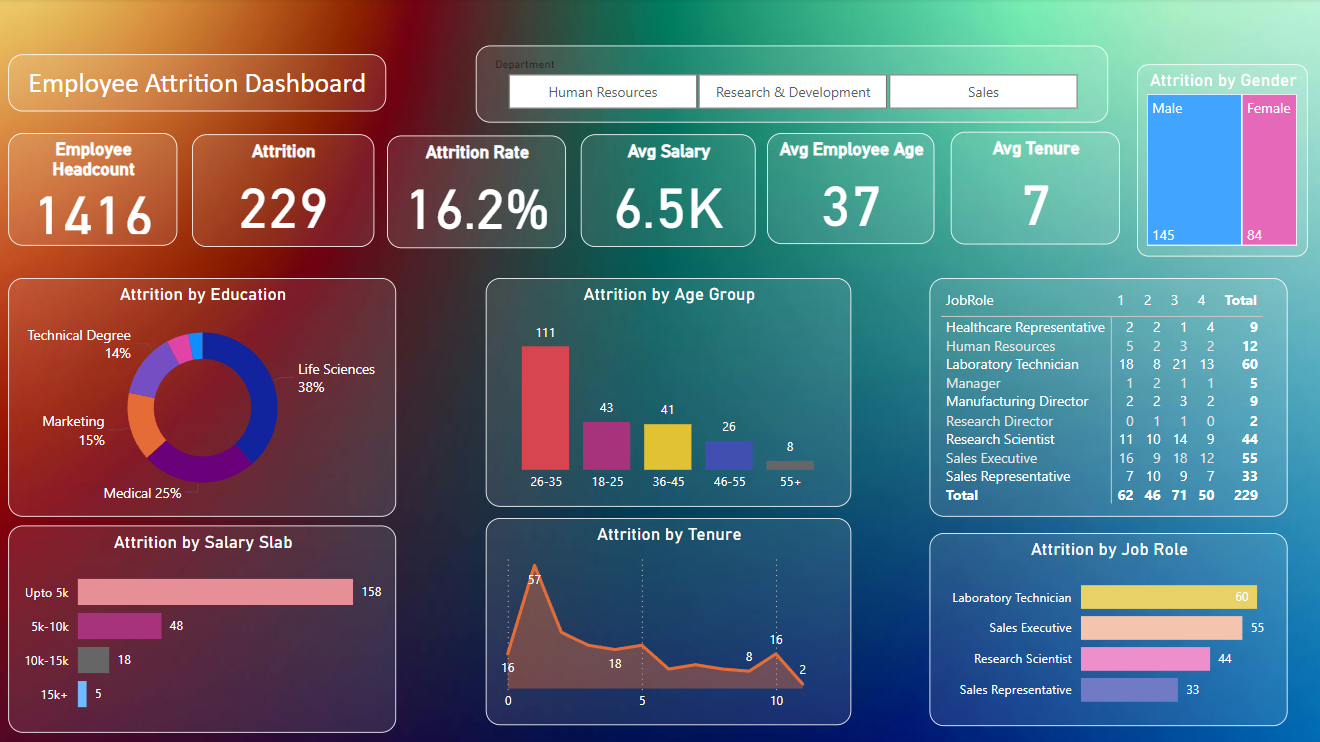

This screenshot's page, from the dashboard's own definition file:
{"tool":"powerbi","page":{"name":"Employee Attrition DB","canvas":[1280,720],"ordinal":0},"visuals":[{"type":"card","title":"Employee Headcount","fields":{"Values":["CountNonNull(Employee_Analytics_data_set.EmpID)"]},"box":[11,130.4,163.3,108.4],"z":0},{"type":"card","title":"Attrition","fields":{"Values":["Sum(Employee_Analytics_data_set.Attrition Count)"]},"box":[188,131.7,175.6,108.4],"z":1000},{"type":"card","title":"Attrition Rate","fields":{"Values":["Employee_Analytics_data_set.Attritionrate"]},"box":[376,133.1,172.9,108.4],"z":2000},{"type":"card","title":"Avg Salary","fields":{"Values":["Avg(Employee_Analytics_data_set.MonthlyIncome)"]},"box":[564,131.7,168.8,108.4],"z":3000},{"type":"card","title":"Avg Employee Age","fields":{"Values":["Avg(Employee_Analytics_data_set.Age)"]},"box":[743.7,130.4,161.9,107],"z":4000},{"type":"card","title":"Avg Tenure","fields":{"Values":["Avg(Employee_Analytics_data_set.YearsAtCompany)"]},"box":[920.8,129,163.3,108.4],"z":5000},{"type":"donutChart","title":"Attrition by Education","fields":{"Category":["Employee_Analytics_data_set.EducationField"],"Y":["Sum(Employee_Analytics_data_set.Attrition Count)"]},"box":[11,270.3,374.6,230.5],"z":6000},{"type":"columnChart","title":"Attrition by Age Group","fields":{"Category":["Employee_Analytics_data_set.AgeGroup"],"Y":["Sum(Employee_Analytics_data_set.Attrition Count)"]},"box":[472,270.3,352.7,220.9],"z":7000},{"type":"pivotTable","title":"Attrition by Education","fields":{"Rows":["Employee_Analytics_data_set.JobRole"],"Columns":["Employee_Analytics_data_set.JobSatisfaction"],"Values":["Sum(Employee_Analytics_data_set.Attrition Count)"]},"box":[900.2,270.3,345.8,230.5],"z":8000},{"type":"barChart","title":"Attrition by Salary Slab","fields":{"Y":["Sum(Employee_Analytics_data_set.Attrition Count)"],"Category":["Employee_Analytics_data_set.SalarySlab"]},"box":[11,509.1,374.6,200.3],"z":9000},{"type":"areaChart","title":"Attrition by Tenure","fields":{"Y":["Sum(Employee_Analytics_data_set.Attrition Count)"],"Category":["Employee_Analytics_data_set.YearsAtCompany"]},"box":[472,502.2,352.7,200.3],"z":10000},{"type":"barChart","title":"Attrition by Job Role","fields":{"Y":["Sum(Employee_Analytics_data_set.Attrition Count)"],"Category":["Employee_Analytics_data_set.JobRole"]},"box":[900.2,516,345.8,186.6],"z":11000},{"type":"treemap","title":"Attrition by Gender","fields":{"Values":["Sum(Employee_Analytics_data_set.Attrition Count)"],"Group":["Employee_Analytics_data_set.Gender"]},"box":[1100.5,64.5,164.7,185.2],"z":12000},{"type":"slicer","fields":{"Values":["Employee_Analytics_data_set.Department"]},"box":[462.4,45.3,610.6,74.1],"z":12001},{"type":"textbox","box":[11,54.9,365,54.9],"z":12002}]}

Visuals, with their boxes in screenshot pixels (x1, y1, x2, y2), scaled from the page's 1280x720 canvas onto the 1320x742 screenshot:
"Employee Headcount" card: crop(11, 134, 180, 246)
"Attrition" card: crop(194, 136, 375, 247)
"Attrition Rate" card: crop(388, 137, 566, 249)
"Avg Salary" card: crop(582, 136, 756, 247)
"Avg Employee Age" card: crop(767, 134, 934, 245)
"Avg Tenure" card: crop(950, 133, 1118, 245)
"Attrition by Education" donutChart: crop(11, 279, 398, 516)
"Attrition by Age Group" columnChart: crop(487, 279, 850, 506)
"Attrition by Education" pivotTable: crop(928, 279, 1285, 516)
"Attrition by Salary Slab" barChart: crop(11, 525, 398, 731)
"Attrition by Tenure" areaChart: crop(487, 518, 850, 724)
"Attrition by Job Role" barChart: crop(928, 532, 1285, 724)
"Attrition by Gender" treemap: crop(1135, 66, 1305, 257)
slicer - Employee_Analytics_data_set.Department: crop(477, 47, 1107, 123)
textbox: crop(11, 57, 388, 113)
